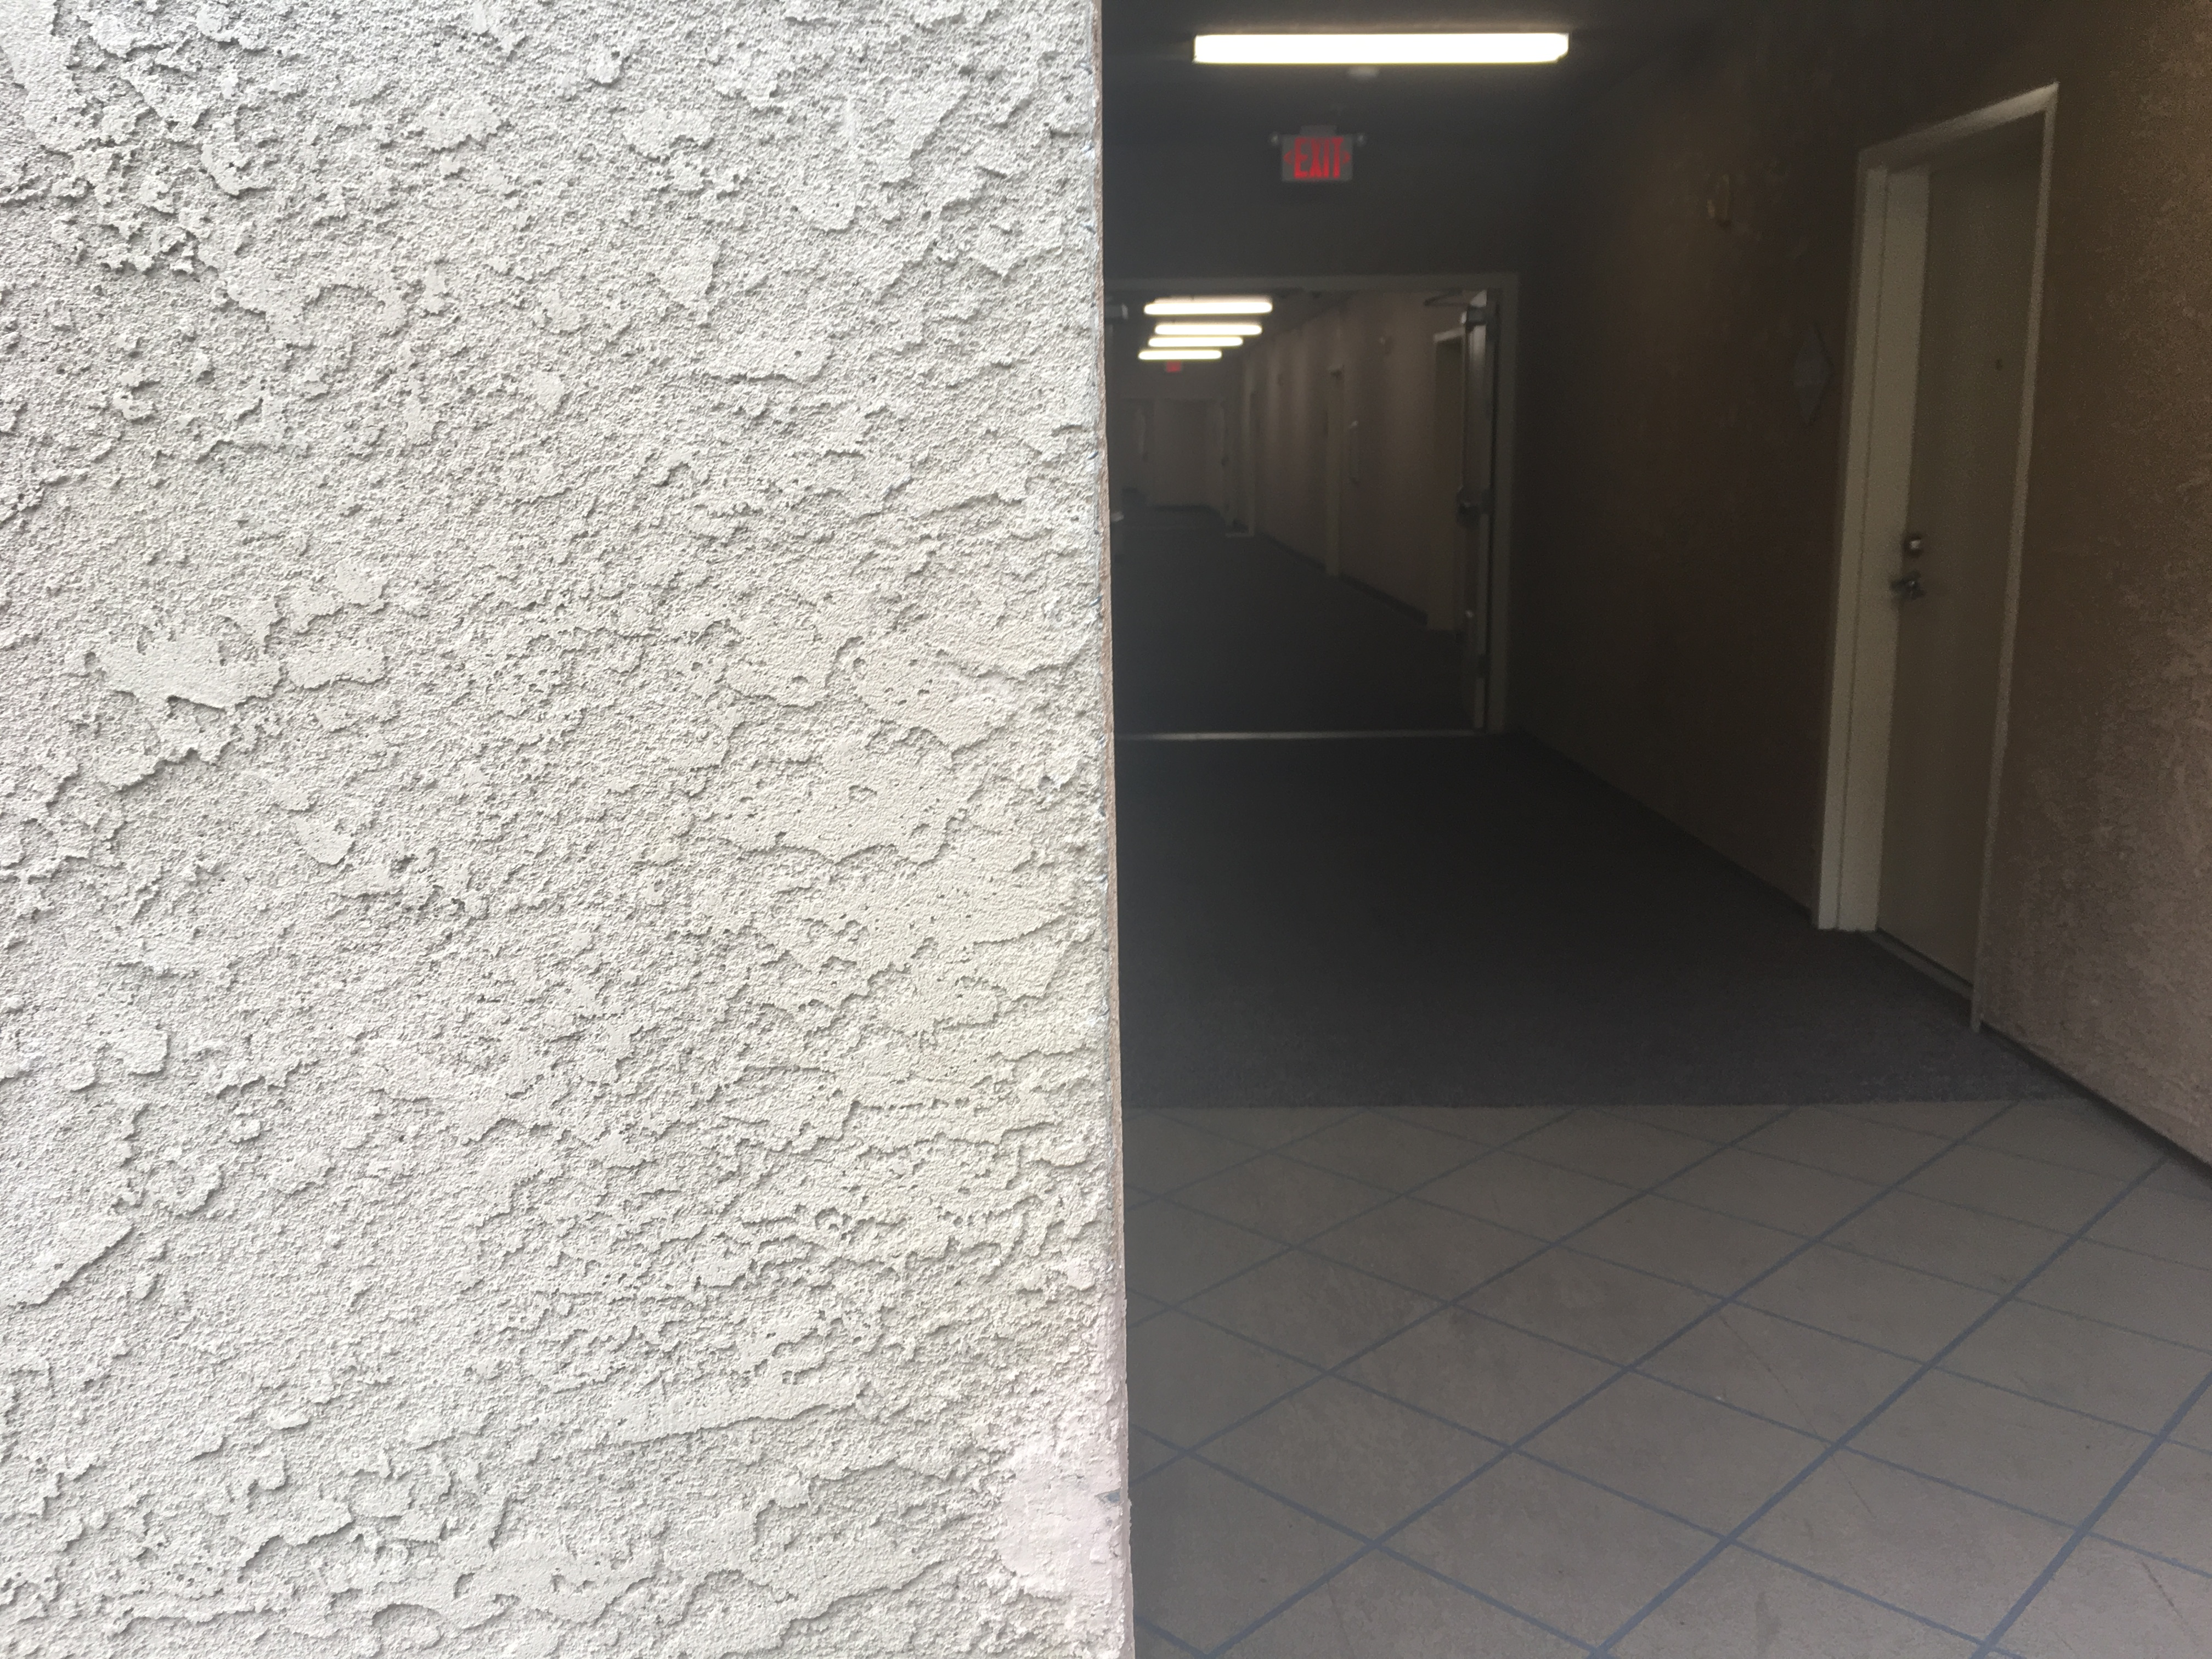Edge: (1073, 9, 1163, 1650)
Obstacle: (0, 5, 1141, 1656)
